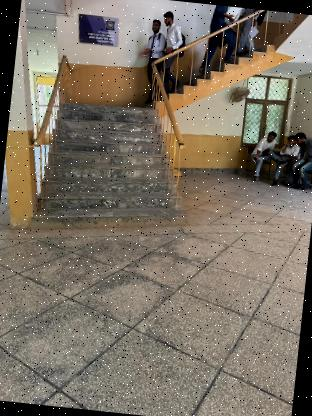stair: (34, 91, 182, 235)
